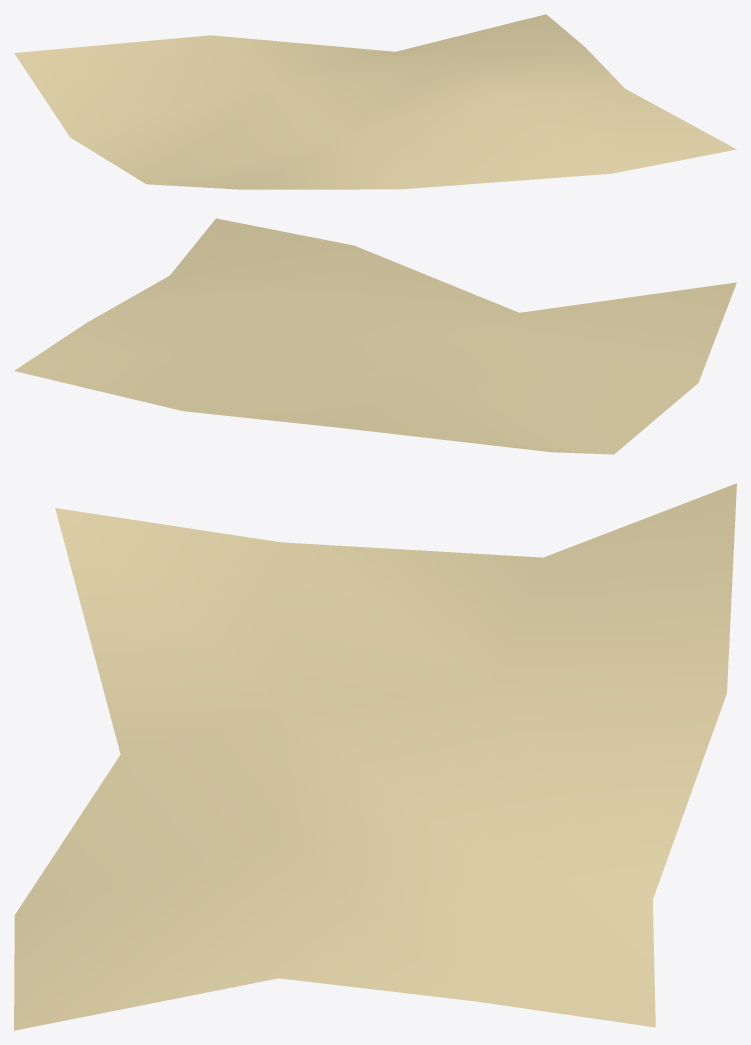
The model's file is Page.fbx.
The picture shows the model from 3 angles, top to bottom: view 1: azimuth 30°, elevation 25°; view 2: azimuth 150°, elevation 25°; view 3: azimuth 270°, elevation 25°; orthographic projection. The views are drawn at different scales.
Parts seen in each view (by area): view 1: Plane.001; view 2: Plane.001; view 3: Plane.001.
Part boxes in pixels (left/top/right/bottom): Plane.001: left=14, top=14, right=736, bottom=189; Plane.001: left=14, top=218, right=736, bottom=454; Plane.001: left=14, top=483, right=736, bottom=1030.
Size of the model in its own units: 42.54 by 5.45 by 30.17.
